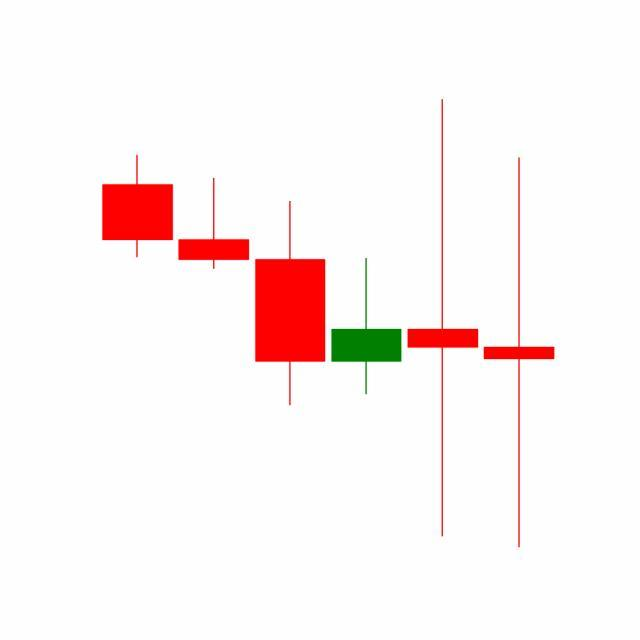Spinning Top: (404, 94, 482, 542)
